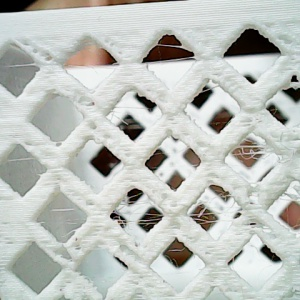3dpstringing: (106, 193, 162, 240), (189, 192, 239, 240), (229, 140, 299, 169), (38, 203, 91, 239), (147, 39, 197, 72), (97, 104, 151, 129), (272, 184, 299, 233), (65, 60, 122, 75), (3, 60, 41, 77), (4, 155, 38, 167), (157, 245, 192, 256), (198, 79, 219, 96), (280, 79, 299, 97), (48, 139, 73, 151), (227, 250, 238, 272), (187, 162, 205, 169), (252, 242, 260, 255)
3dpunderextrusion: (157, 188, 191, 240)
